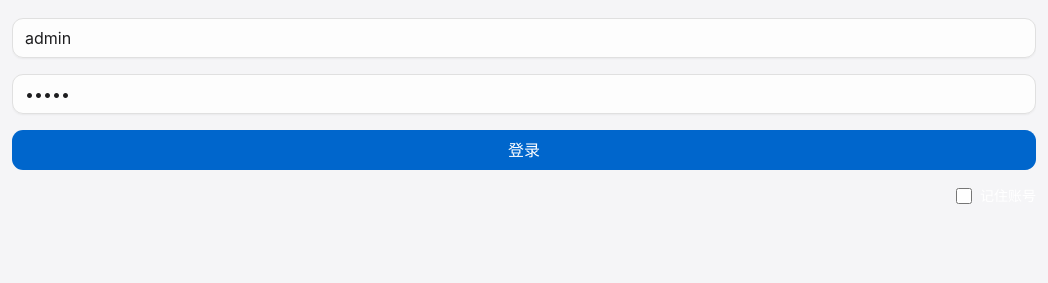
it: LoginForm › shows validation feedback when fields are empty
The width and height of the screenshot is (1048, 283).
Clear the field named "账号" at (524, 38), box 12,18 -> 1036,58
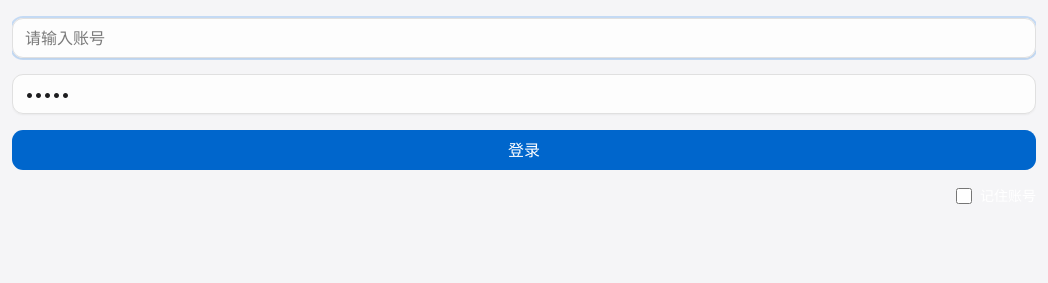
Clear the password field named "密码" at (524, 94), box 12,74 -> 1036,114
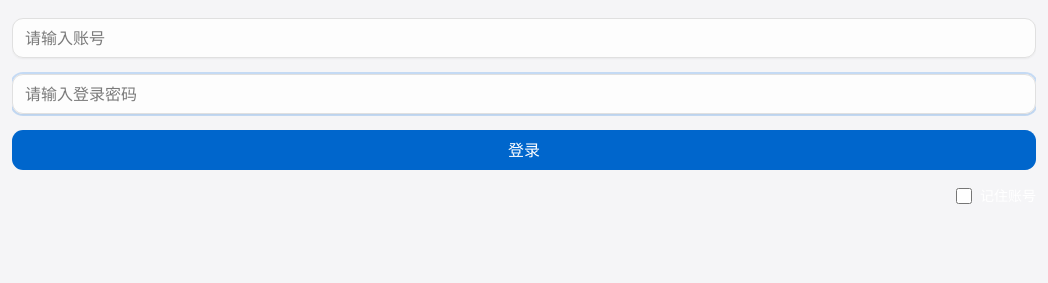
Click the button "登录" at (524, 150), box 12,130 -> 1036,170
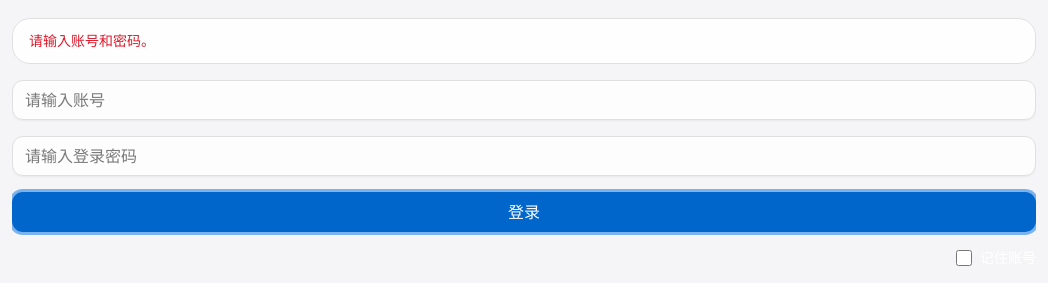
Check: the text "请输入账号和密码。" is shown, box 29,32 -> 155,49
